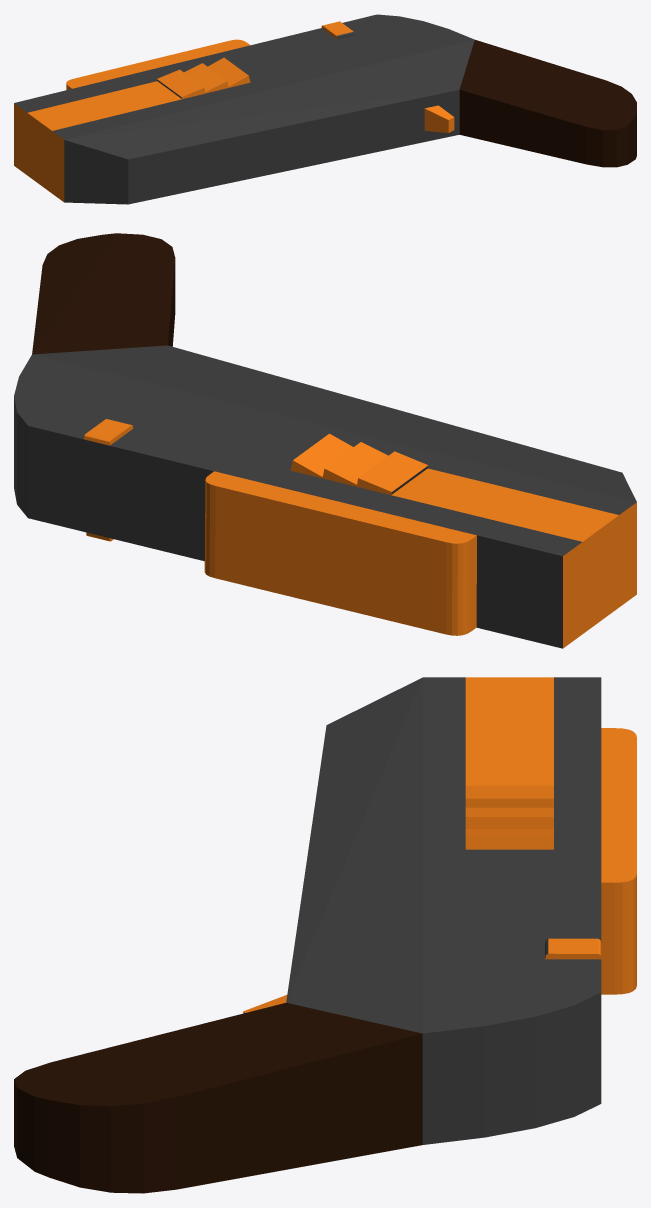
File: Arma.FBX
The picture shows the model from 3 angles, top to bottom: view 1: azimuth 30°, elevation 25°; view 2: azimuth 150°, elevation 25°; view 3: azimuth 270°, elevation 25°; orthographic projection. The views are drawn at different scales.
Visible parts, largest first — view 1: arma; view 2: arma; view 3: arma.
Part boxes in pixels (x1,y1,x2,y2): arma: [14, 14, 636, 204]; arma: [14, 233, 636, 648]; arma: [14, 677, 636, 1193].
Bounding box in the file's own units: 18024 × 2773 × 11399.
